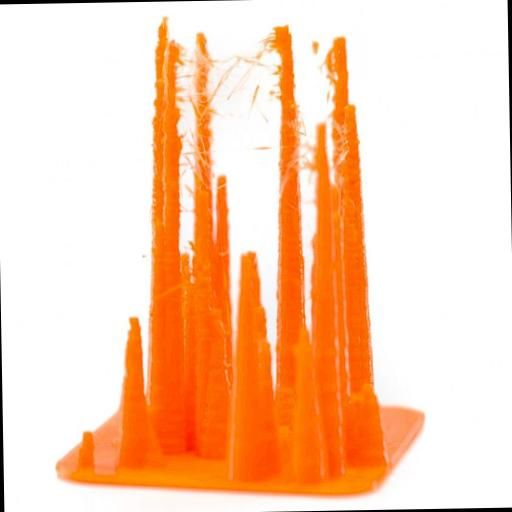stringing: (160, 20, 348, 217)
